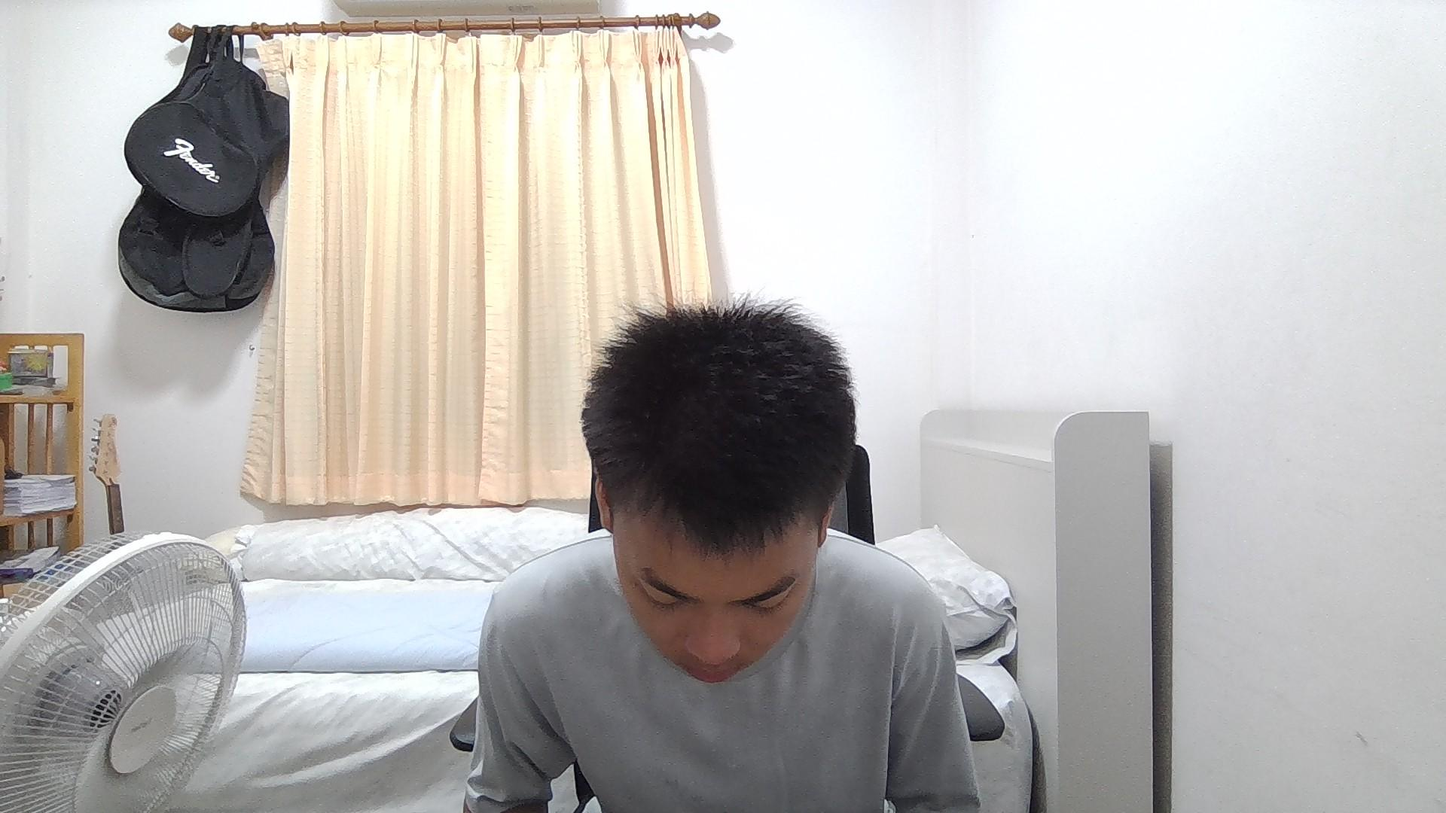BadPosture: (463, 300, 982, 812)
